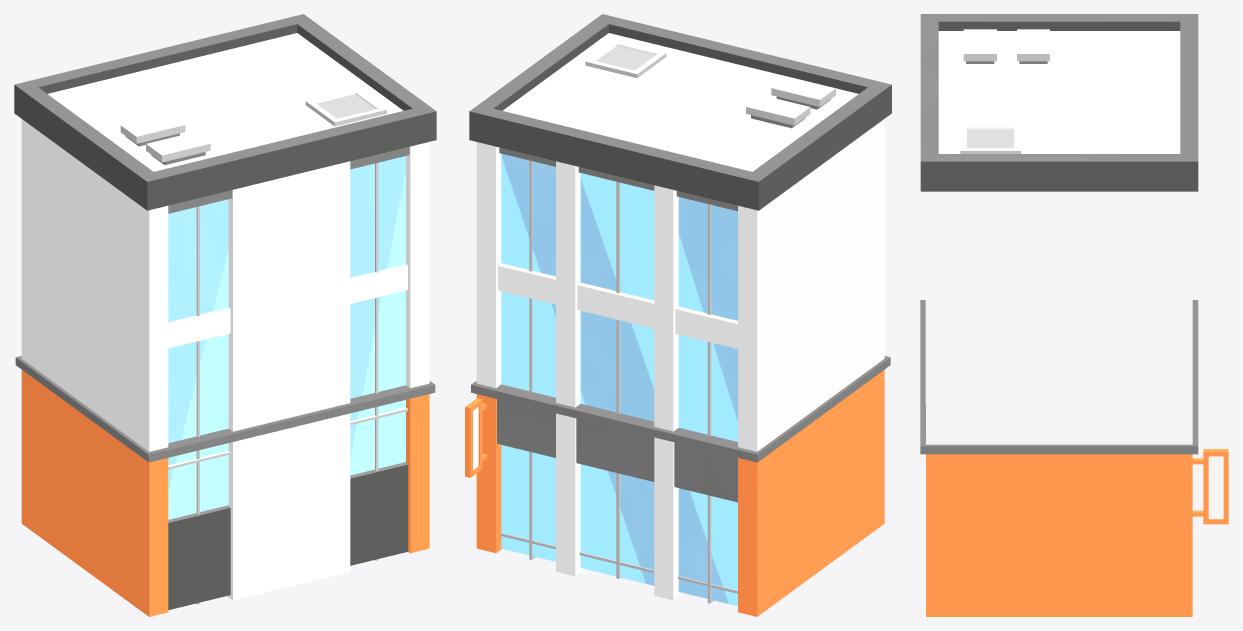
File: hotel.005.glb
The picture shows the model from 3 angles, left to right: view 1: azimuth 30°, elevation 25°; view 2: azimuth 150°, elevation 25°; view 3: azimuth 270°, elevation 25°; orthographic projection. The views are drawn at different scales.
Visible parts, largest first — view 1: hotel.005(Clone); view 2: hotel.005(Clone); view 3: hotel.005(Clone).
Boxes of the visible parts, x1,y1,x2,y2 form: hotel.005(Clone): [14, 14, 436, 616]; hotel.005(Clone): [465, 14, 891, 616]; hotel.005(Clone): [920, 14, 1228, 616].
Bounding box in the file's own units: 5.97 × 8.76 × 5.27.
Materials: 1 (1 with a texture image).
